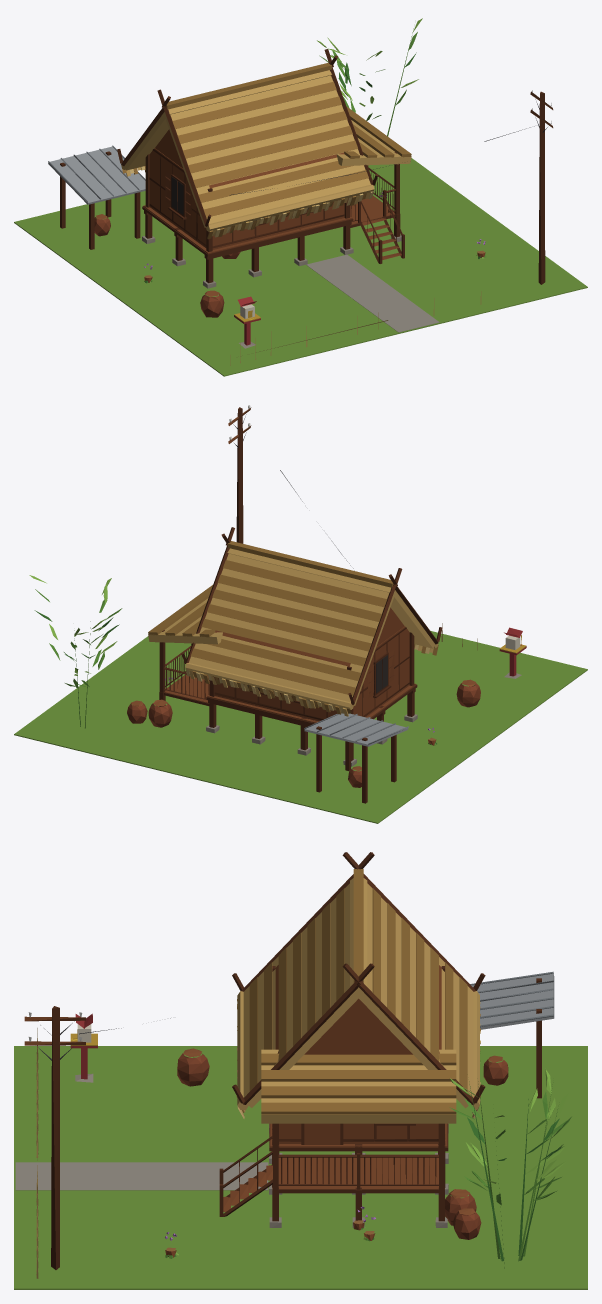
The model's file is home_1.glb.
The picture shows the model from 3 angles, top to bottom: view 1: azimuth 30°, elevation 25°; view 2: azimuth 150°, elevation 25°; view 3: azimuth 270°, elevation 25°; orthographic projection. The views are drawn at different scales.
Visible parts, largest first — view 1: body; view 2: body; view 3: body.
Boxes of the visible parts, x1,y1,x2,y2 form: body: (14,18,587,376); body: (14,405,587,823); body: (14,852,587,1289).
Size of the model in its own units: 16.57 by 8.23 by 15.9.
